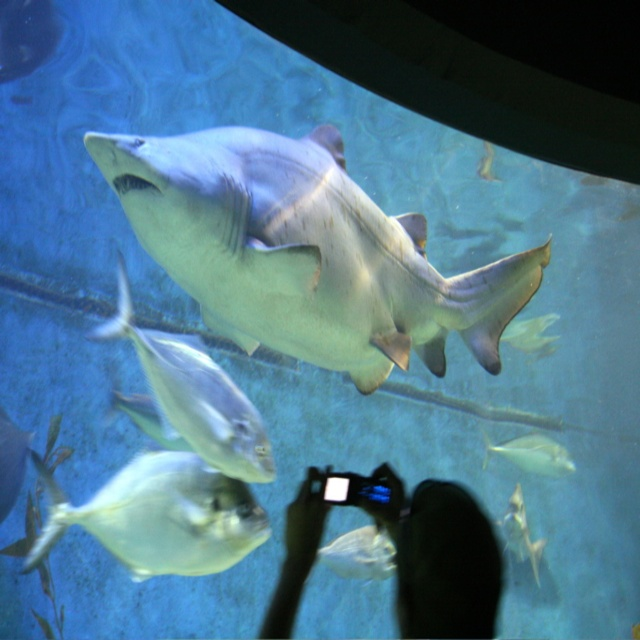Shark: (81, 122, 549, 389)
